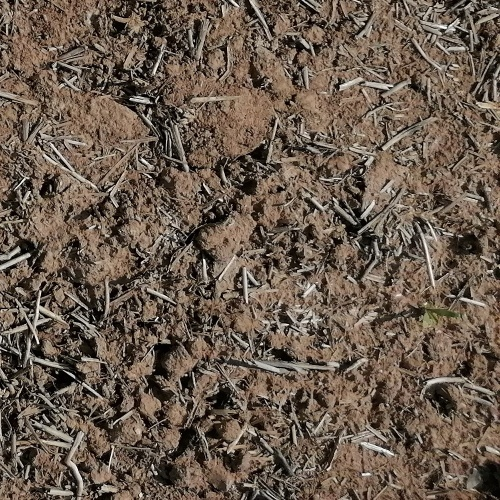beet: (423, 304, 457, 331)
